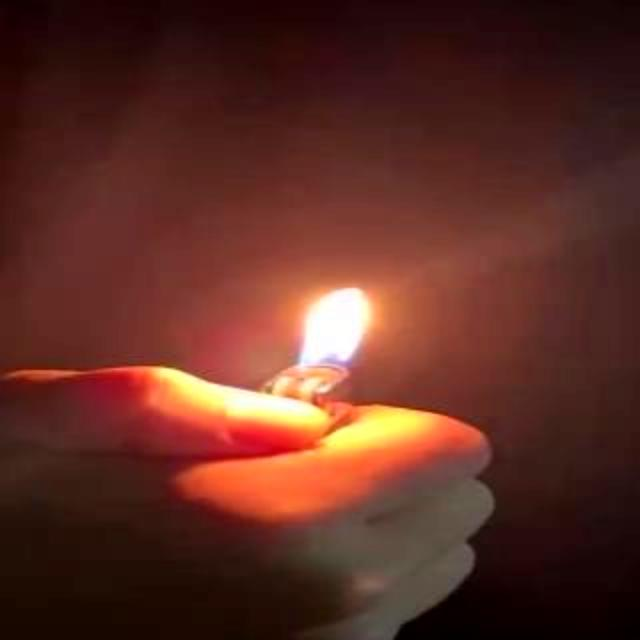fire: (262, 288, 370, 401)
